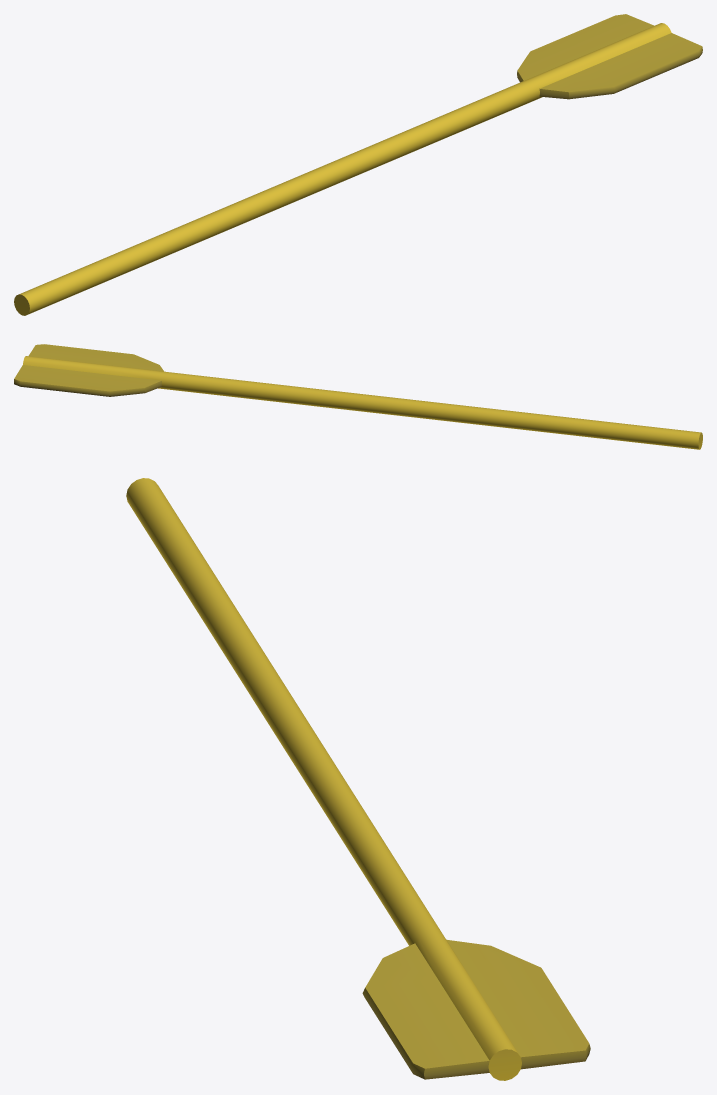
File: paddle.fbx
3 views of the same model, one above another, from view 1: azimuth 30°, elevation 25°; view 2: azimuth 150°, elevation 25°; view 3: azimuth 270°, elevation 25° (orthographic). The views are drawn at different scales.
Visible parts, largest first — view 1: paddle; view 2: paddle; view 3: paddle.
Boxes of the visible parts, x1,y1,x2,y2 form: paddle: [14, 14, 702, 315]; paddle: [14, 344, 702, 449]; paddle: [126, 478, 590, 1080].
Size of the model in its own units: 0.0265 by 0.00067 by 0.00892.
Materials: 1 (1 with a texture image).
